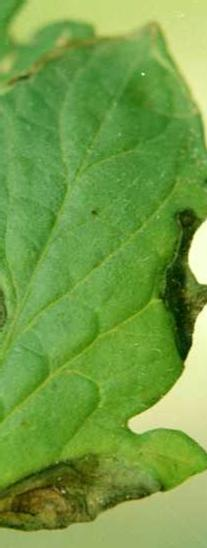Tomato leaf late blight: (0, 7, 207, 548)
